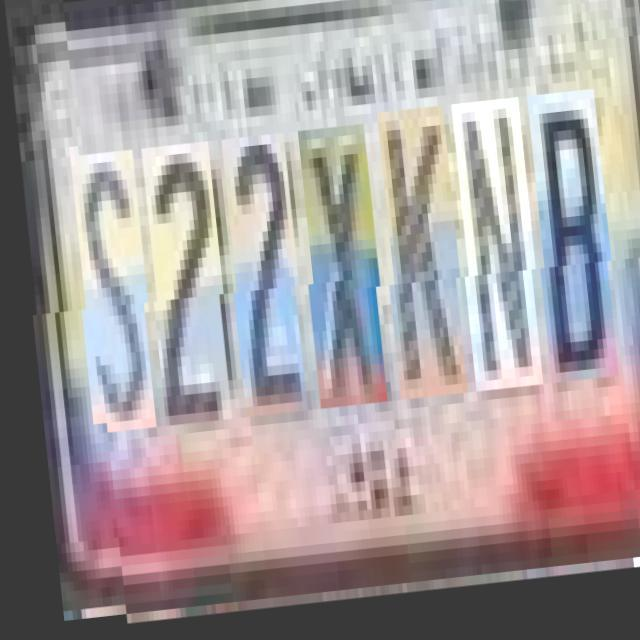2: (138, 146, 227, 428), (218, 140, 302, 422)
B: (524, 103, 614, 394)
K: (372, 115, 462, 408)
N: (448, 109, 538, 401)
S: (66, 153, 152, 434)
X: (294, 132, 382, 415)
